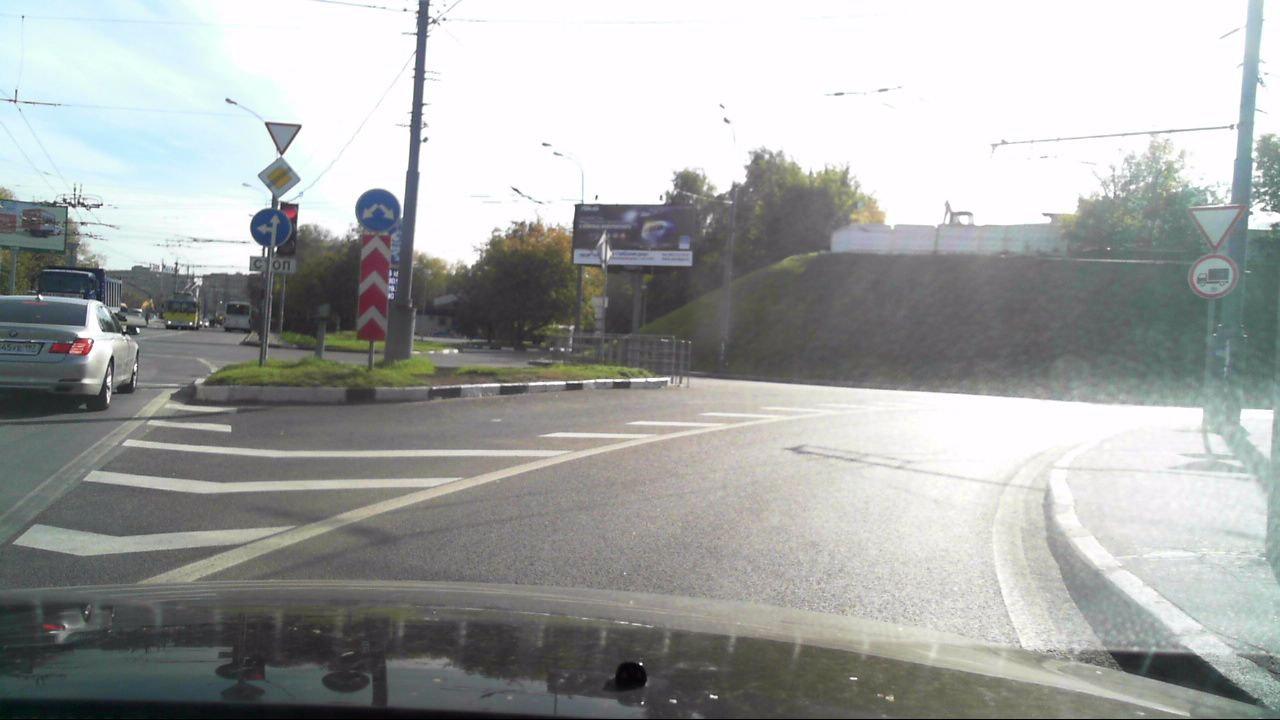main road: (254, 157, 301, 200)
